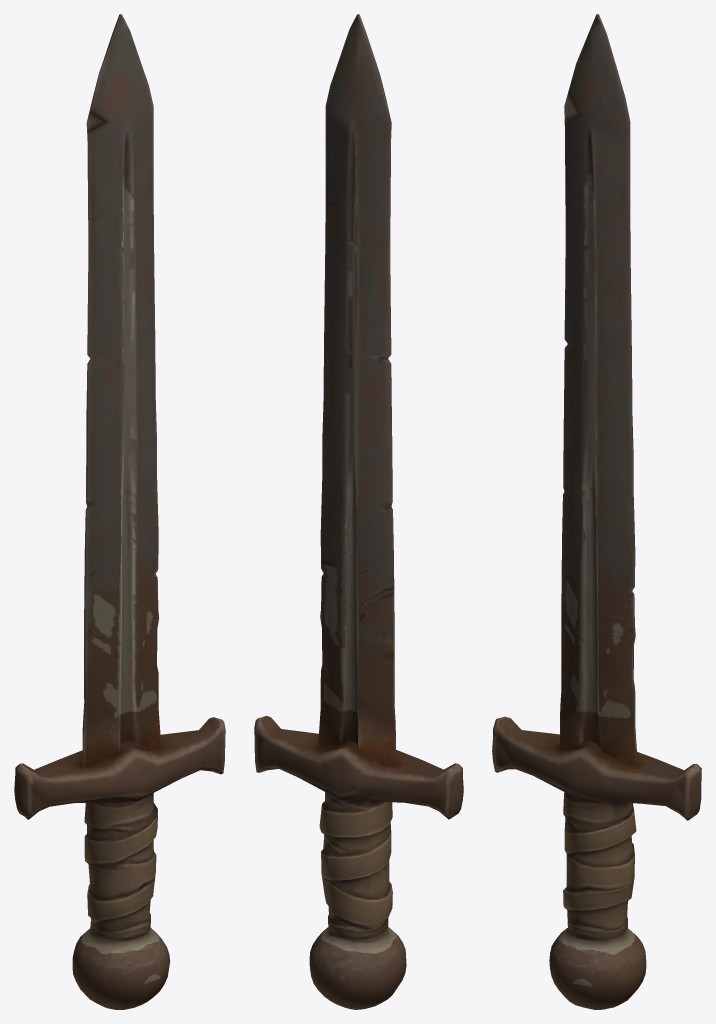
Rendered from sword_starter.glb.
The picture shows the model from 3 angles, left to right: view 1: azimuth 30°, elevation 25°; view 2: azimuth 150°, elevation 25°; view 3: azimuth 330°, elevation 25°; orthographic projection.
Visible parts, largest first — view 1: tripo_node_97e2f97e-50ac-4141-868f-1e15ad3be5ce; view 2: tripo_node_97e2f97e-50ac-4141-868f-1e15ad3be5ce; view 3: tripo_node_97e2f97e-50ac-4141-868f-1e15ad3be5ce.
Boxes of the visible parts, box(x1,y1,x2,y2) form: tripo_node_97e2f97e-50ac-4141-868f-1e15ad3be5ce: box(14, 14, 225, 1009); tripo_node_97e2f97e-50ac-4141-868f-1e15ad3be5ce: box(254, 14, 463, 1009); tripo_node_97e2f97e-50ac-4141-868f-1e15ad3be5ce: box(492, 14, 701, 1009).
Size of the model in its own units: 0.4407 by 2 by 0.1807.
1 material, 1 textured.
